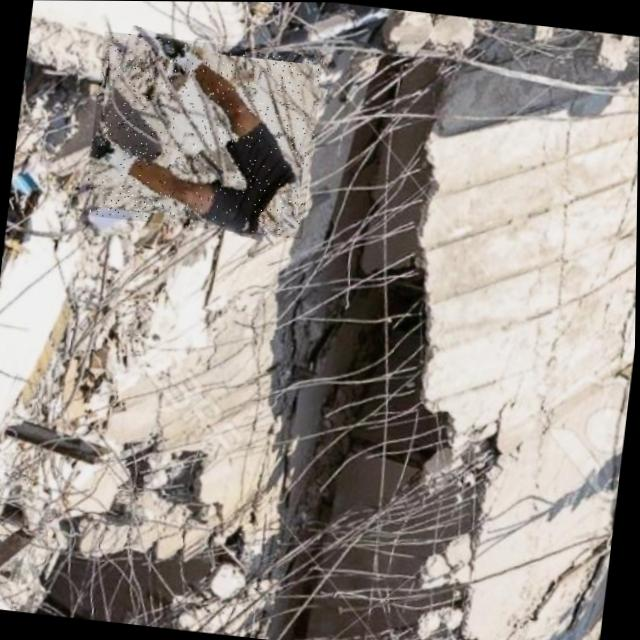Person in Rubble: (82, 30, 323, 239)
